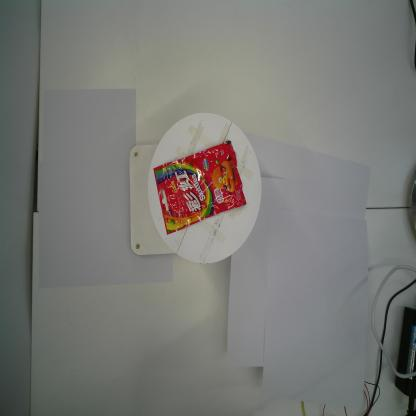Candy: (153, 140, 247, 235)
